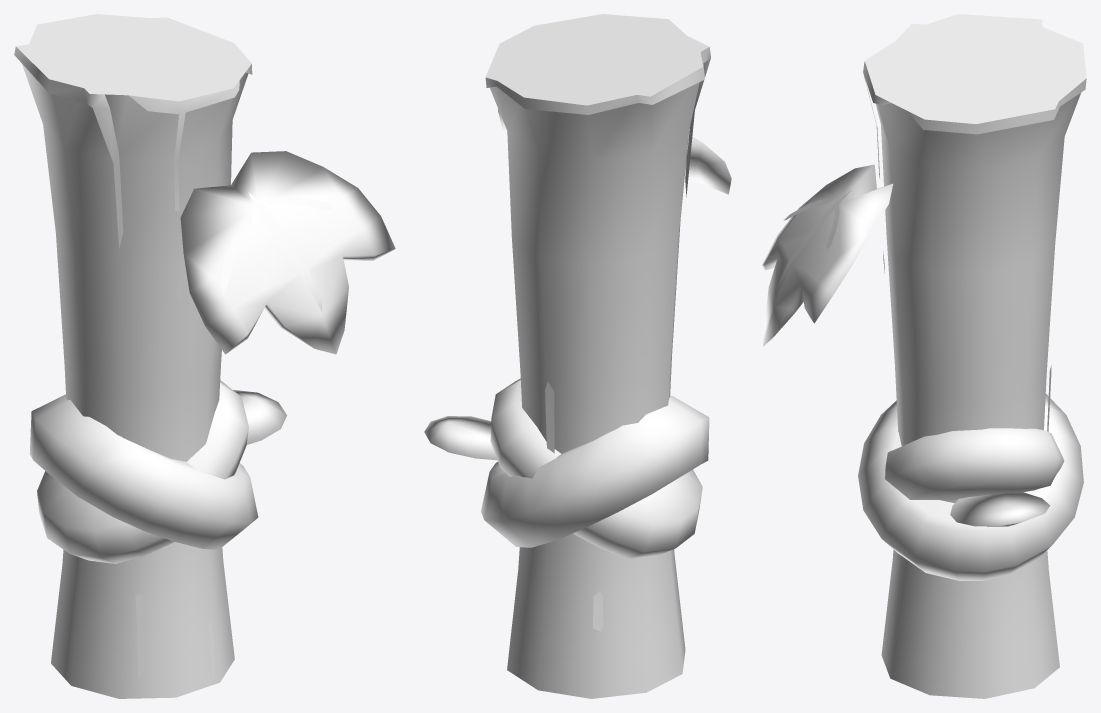
The model's file is Mesh_Home_B_Idyll_17_01_SM.fbx.
The picture shows the model from 3 angles, left to right: view 1: azimuth 30°, elevation 25°; view 2: azimuth 150°, elevation 25°; view 3: azimuth 270°, elevation 25°; orthographic projection. The views are drawn at different scales.
Visible parts, largest first — view 1: Mesh_Home_B_Idyll_17_01; view 2: Mesh_Home_B_Idyll_17_01; view 3: Mesh_Home_B_Idyll_17_01.
Part boxes in pixels (x1,y1,x2,y2): Mesh_Home_B_Idyll_17_01: [14, 14, 395, 698]; Mesh_Home_B_Idyll_17_01: [424, 14, 731, 698]; Mesh_Home_B_Idyll_17_01: [760, 14, 1086, 698].
Size of the model in its own units: 11.92 by 25.39 by 12.52.
